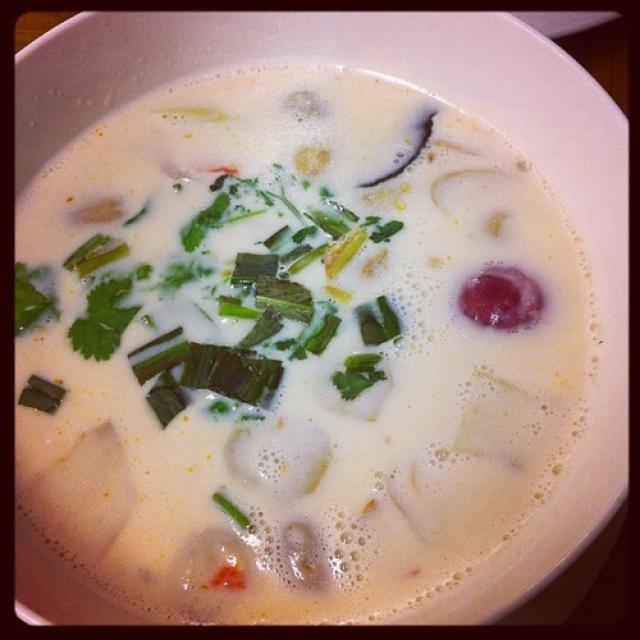汤锅炖物: (23, 37, 612, 616)
